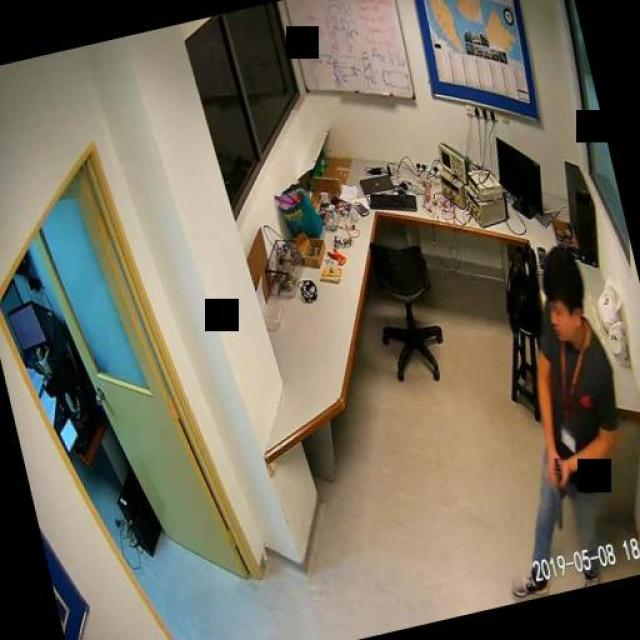gun: (539, 452, 576, 532)
